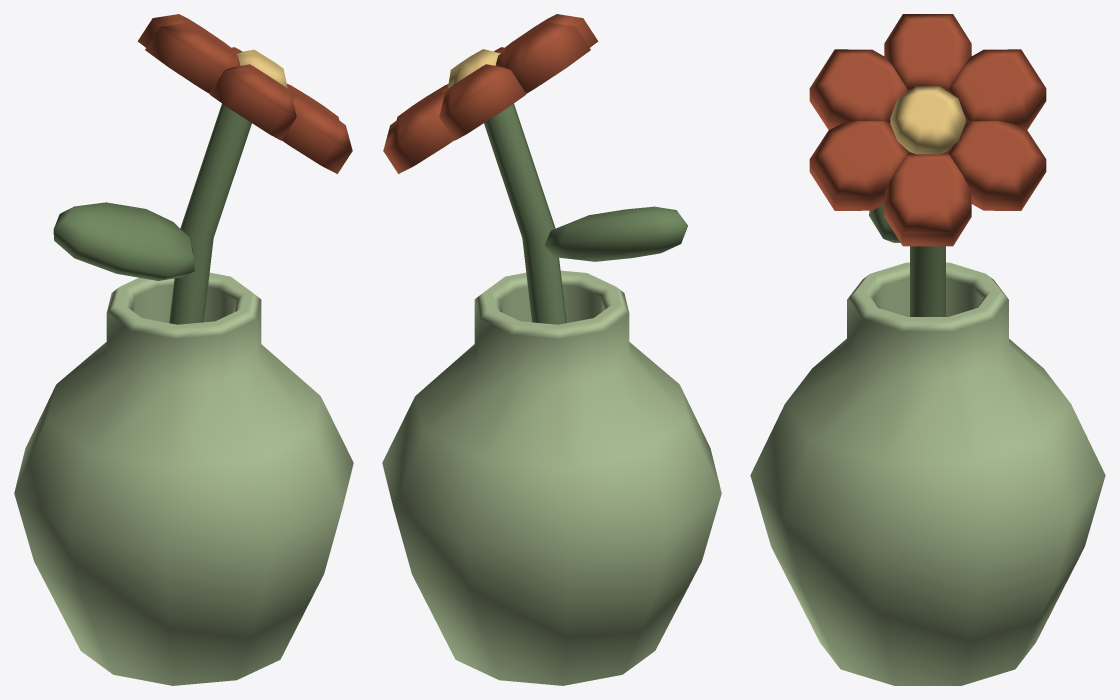
File: SM_CozyShops_Vase_Flower.fbx
3 views of the same model, side by side, from view 1: azimuth 30°, elevation 25°; view 2: azimuth 150°, elevation 25°; view 3: azimuth 270°, elevation 25° (orthographic). The views are drawn at different scales.
Visible parts, largest first — view 1: SM_CozyShops_Vase_Flower; view 2: SM_CozyShops_Vase_Flower; view 3: SM_CozyShops_Vase_Flower.
Boxes of the visible parts, x1,y1,x2,y2 form: SM_CozyShops_Vase_Flower: (14,14,353,685); SM_CozyShops_Vase_Flower: (382,14,721,685); SM_CozyShops_Vase_Flower: (750,14,1105,685).
Bounding box in the file's own units: 0.0766 × 0.1532 × 0.0789.
